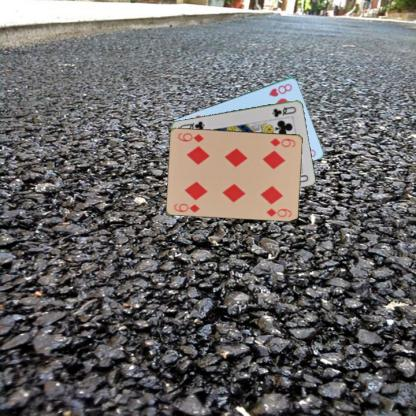6d: (172, 200, 201, 214), (268, 135, 296, 148)
8h: (266, 81, 294, 98)
Qc: (270, 104, 297, 118)
